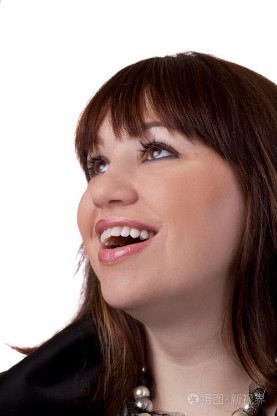张嘴: (93, 216, 154, 264)
